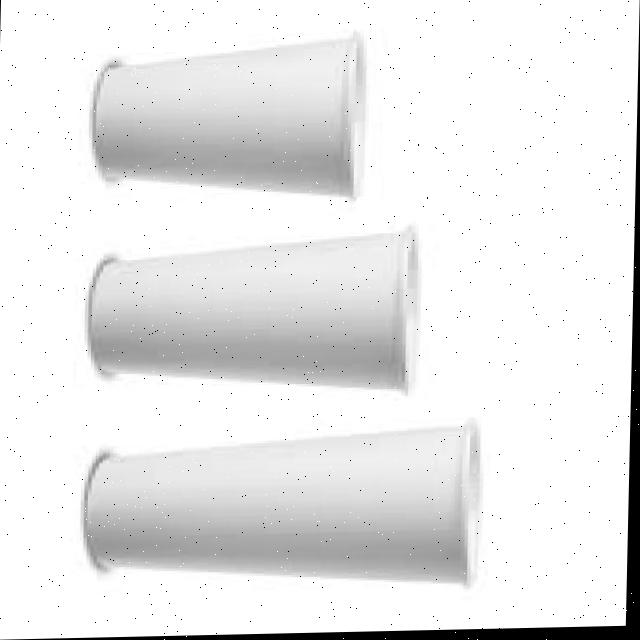cup: (38, 392, 526, 620), (54, 208, 458, 428), (52, 33, 412, 209)
